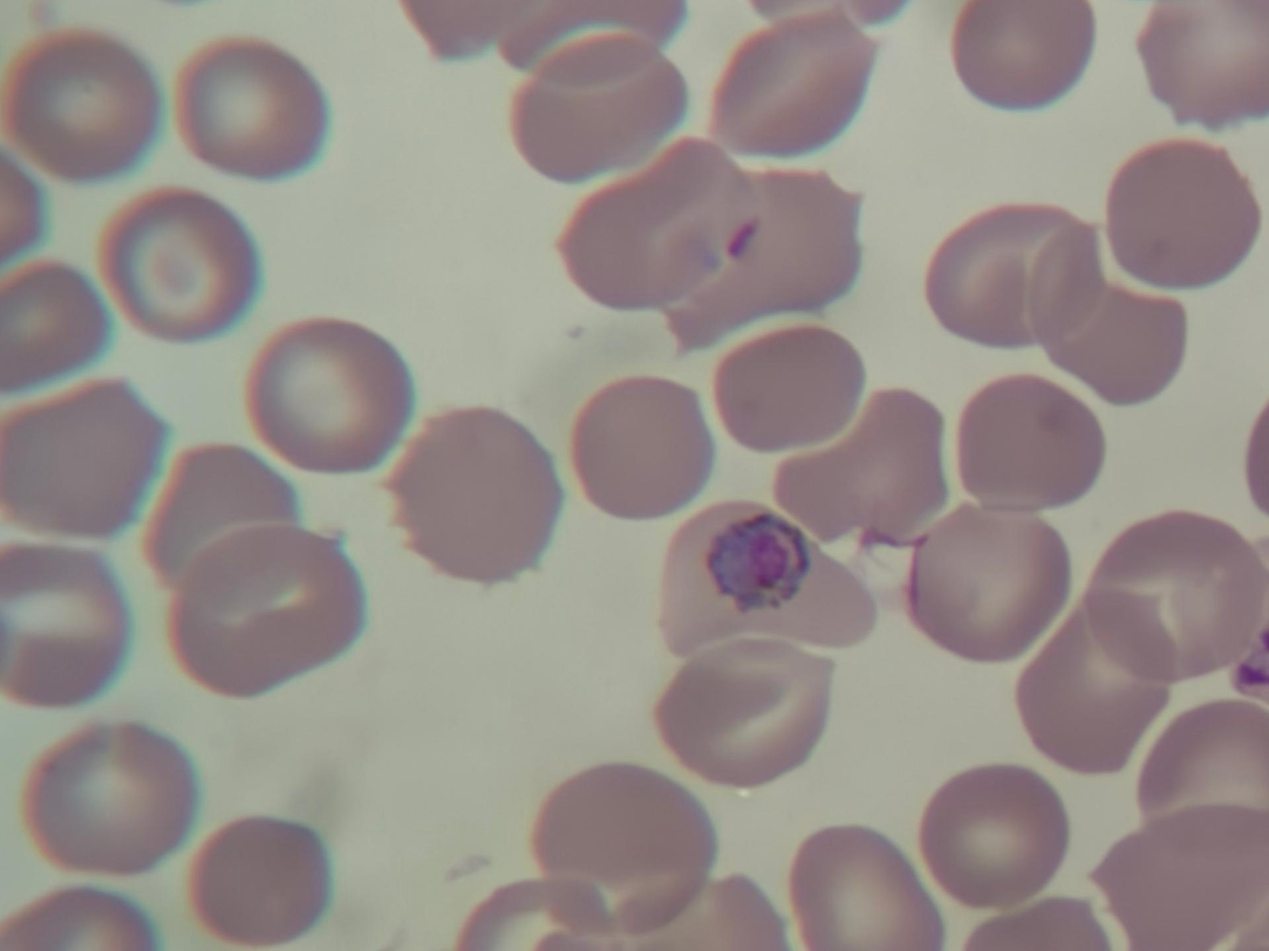Infected: (659, 498, 871, 660)
Uninfected: (660, 163, 862, 348), (558, 139, 756, 315), (167, 519, 362, 697), (382, 408, 564, 583), (1083, 512, 1264, 684), (530, 764, 714, 933), (1030, 235, 1190, 408), (776, 387, 947, 547), (654, 641, 833, 790), (24, 721, 194, 876), (1, 379, 165, 538), (905, 504, 1069, 660), (511, 32, 683, 178), (711, 10, 876, 161), (246, 319, 408, 472), (100, 188, 260, 342), (924, 203, 1091, 350), (1093, 805, 1266, 944), (1020, 609, 1165, 772), (7, 28, 160, 182), (1105, 137, 1258, 289), (143, 444, 300, 588), (952, 374, 1104, 515), (917, 765, 1065, 909), (175, 38, 324, 179), (568, 375, 713, 519), (3, 544, 132, 704), (716, 331, 874, 453), (787, 827, 940, 951), (188, 816, 330, 944), (1139, 1, 1265, 128), (953, 1, 1094, 110), (1, 260, 112, 395)
